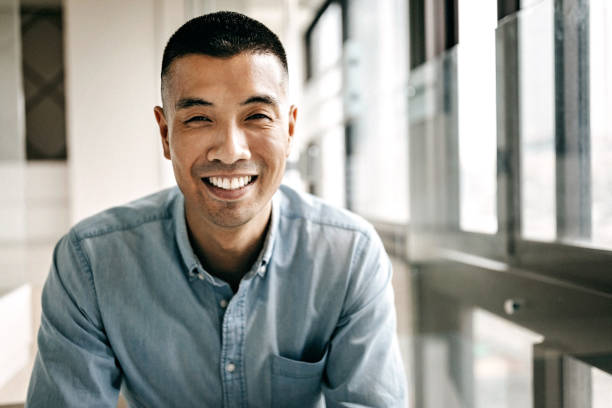person: (152, 11, 299, 233)
